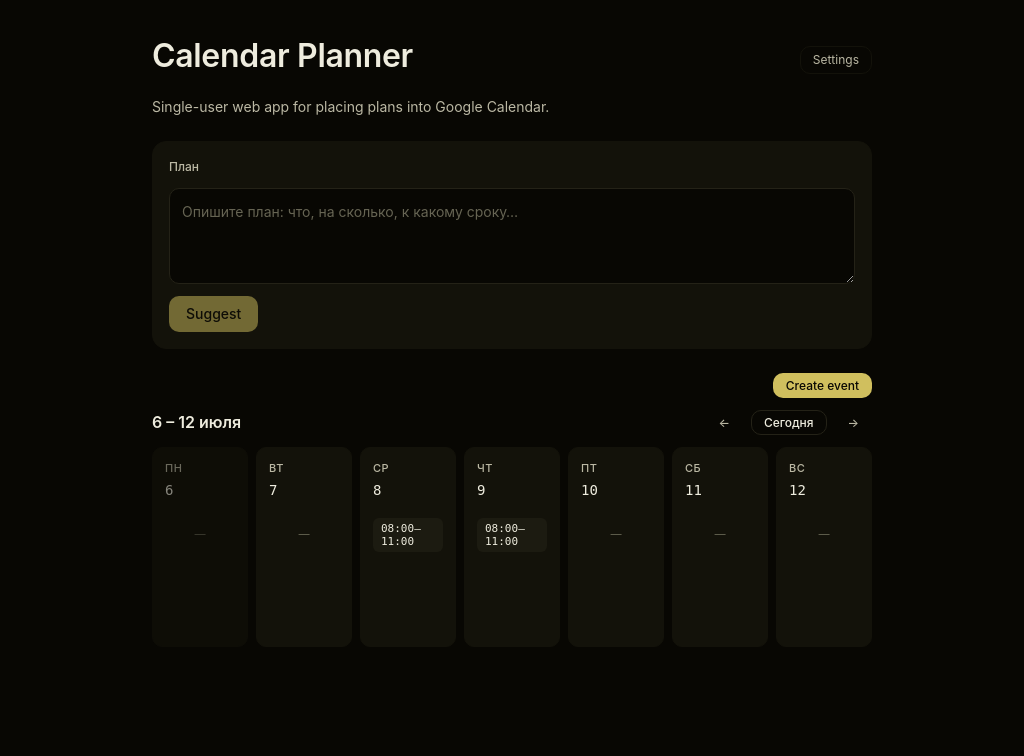
Test: App event creation flow › renders a 'No clean slots found' banner when every active candidate suggestion conflicts
Expected: the element with test id "week-view" is shown, [152, 410, 872, 646]
Type "подготовить презентацию" into the text box labelled "План" at (512, 236), box [169, 188, 855, 284]
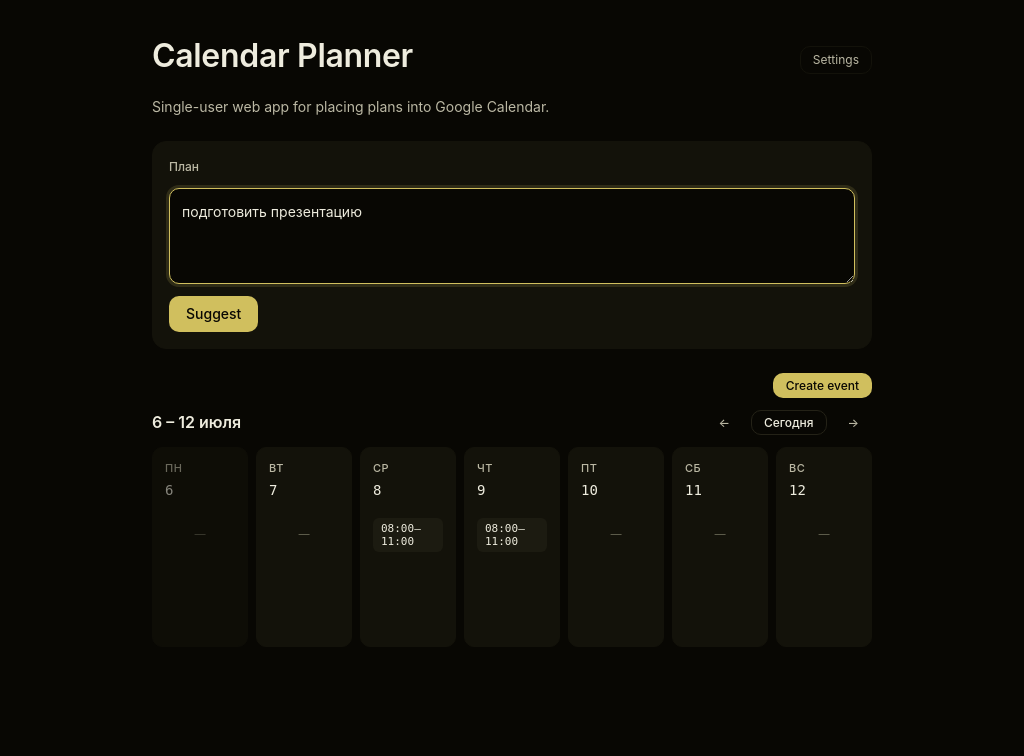
Click the button "Suggest" at (214, 314), box [169, 296, 258, 332]
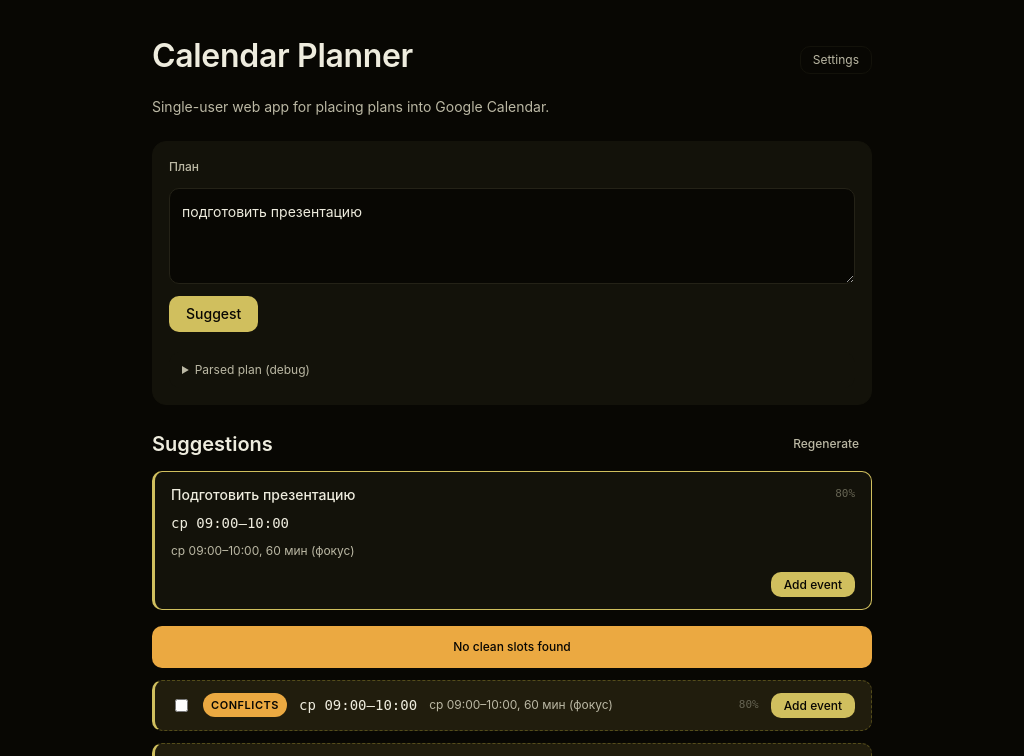
Expected: the message with test id "no-clean-slots" reads "No clean slots found", [453, 638, 571, 654]
